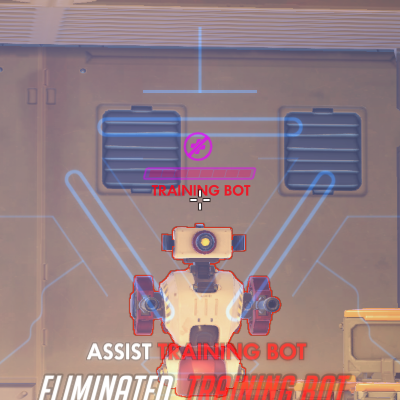hpbar: (149, 169, 252, 178)
